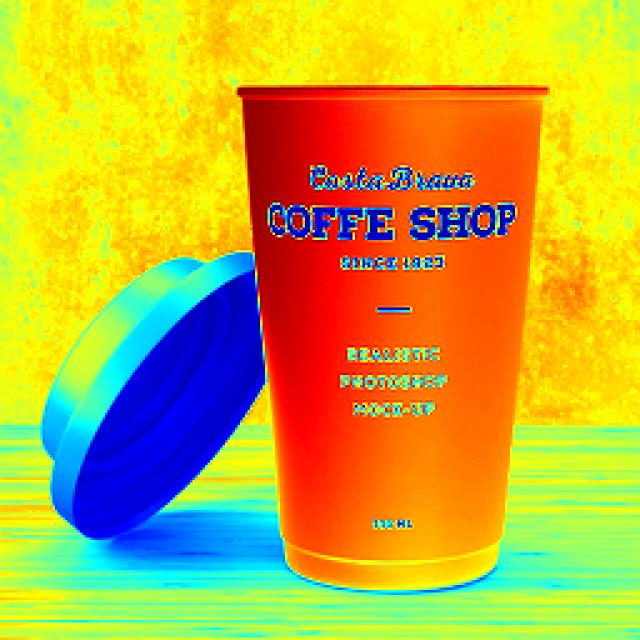Paper Cups: (218, 81, 539, 597)
